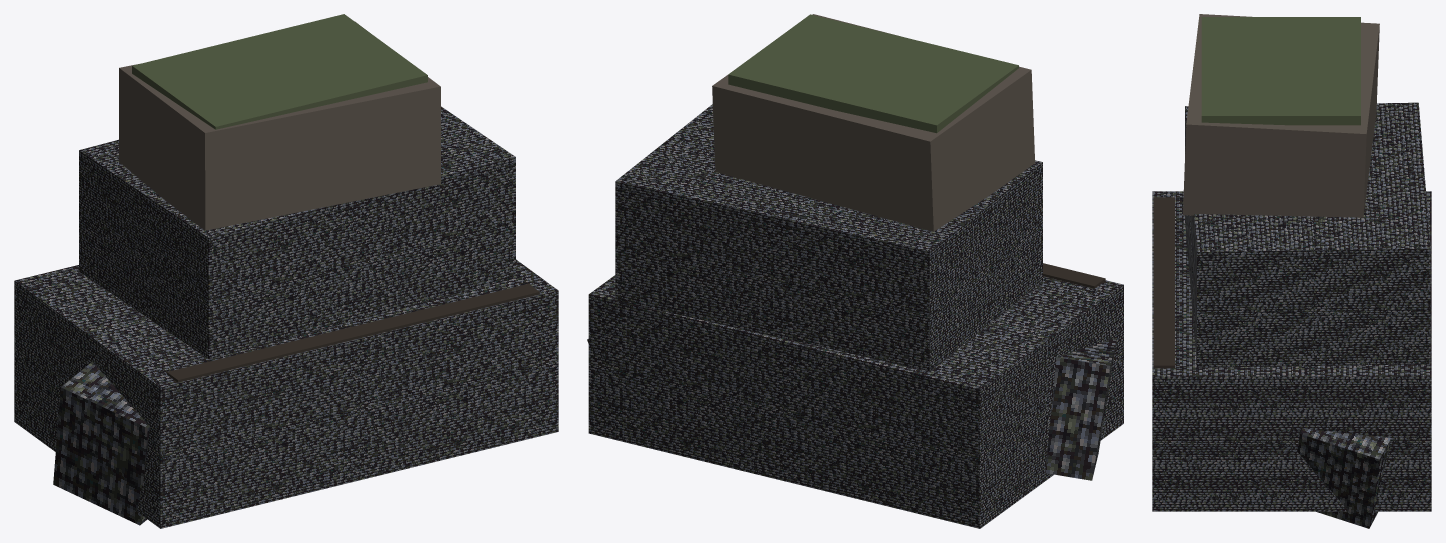
File: bloque_piedra.glb
The picture shows the model from 3 angles, left to right: view 1: azimuth 30°, elevation 25°; view 2: azimuth 150°, elevation 25°; view 3: azimuth 270°, elevation 25°; orthographic projection. The views are drawn at different scales.
Visible parts, largest first — view 1: Cube, Cube.001, Cube.002, Cube.003, Cube.004, Cube.006; view 2: Cube, Cube.001, Cube.002, Cube.003, Cube.004, Cube.006; view 3: Cube.001, Cube, Cube.002, Cube.003, Cube.005, Cube.006.
Boxes of the visible parts, x1,y1,x2,y2 form: Cube: (14, 259, 558, 528); Cube.001: (79, 106, 515, 358); Cube.002: (119, 21, 440, 230); Cube.003: (132, 14, 427, 129); Cube.004: (53, 361, 149, 525); Cube.006: (167, 284, 539, 382); Cube: (588, 275, 1123, 528); Cube.001: (615, 104, 1042, 371); Cube.002: (712, 14, 1035, 231); Cube.003: (728, 14, 1018, 133); Cube.004: (1045, 338, 1116, 480); Cube.006: (1043, 263, 1105, 288); Cube.001: (1185, 102, 1430, 367); Cube: (1152, 191, 1431, 511); Cube.002: (1183, 14, 1379, 217); Cube.003: (1201, 17, 1360, 125); Cube.005: (1297, 428, 1390, 528); Cube.006: (1153, 197, 1174, 368).
Size of the model in its own units: 1.95 by 1.51 by 1.05.
Materials: 4 (1 with a texture image).
